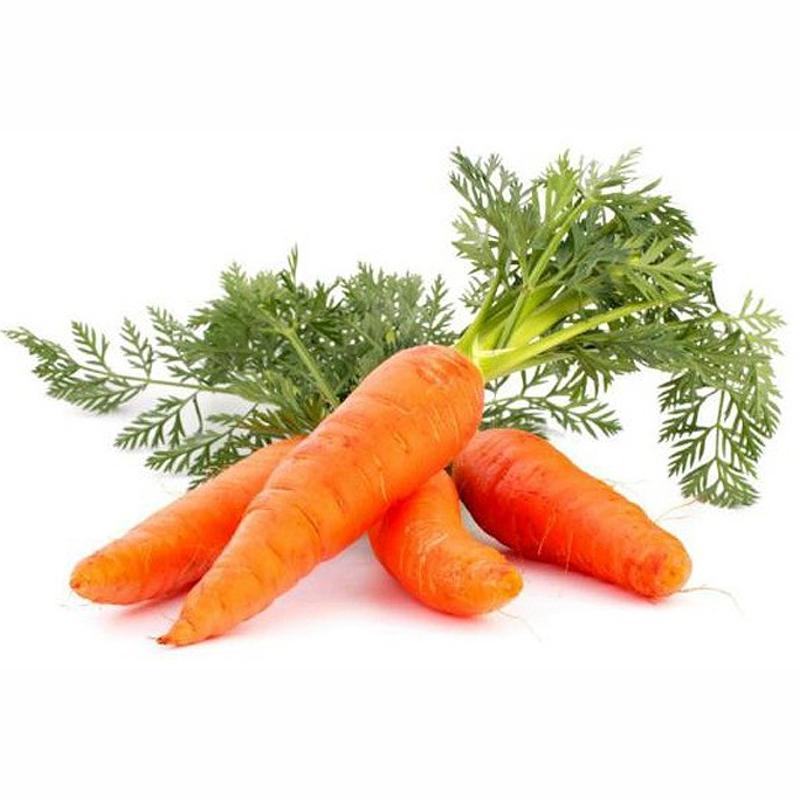carrot: (77, 313, 720, 659)
